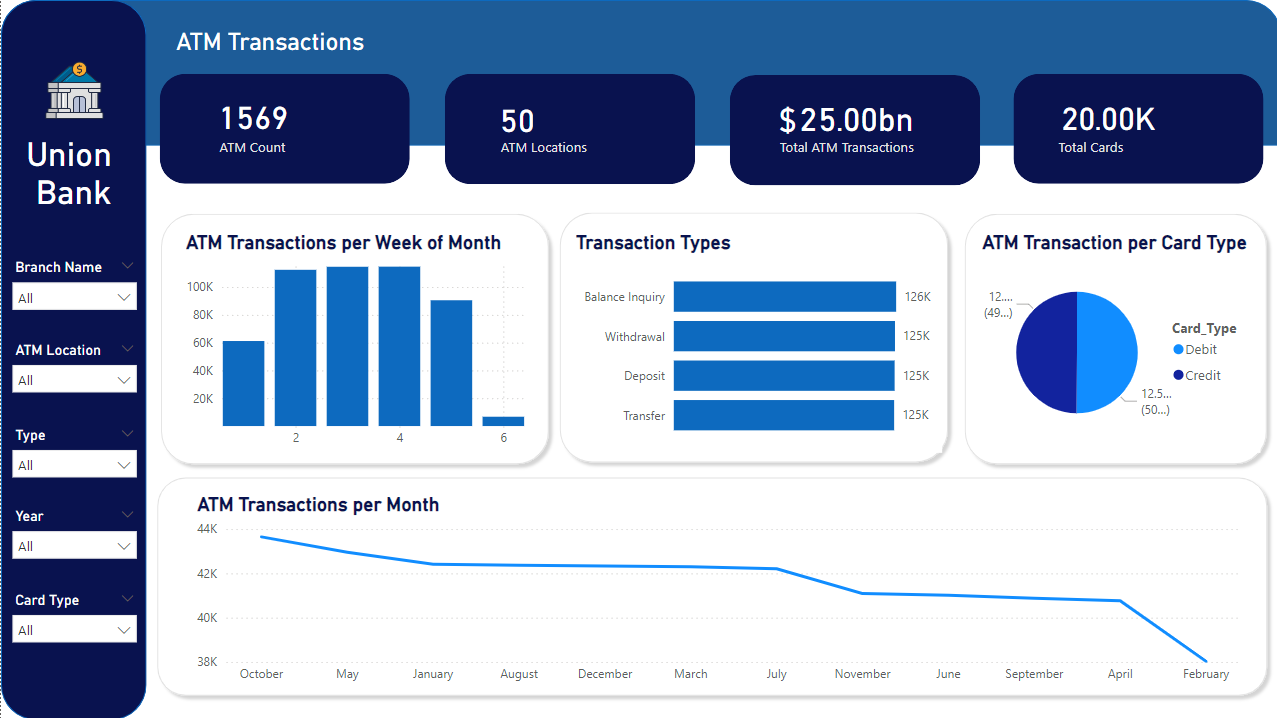

What the dashboard file says about the page in this screenshot:
{"tool":"powerbi","page":{"name":"ATM Transaction","canvas":[1280,720],"ordinal":1},"visuals":[{"type":"shape","box":[0,0,1280,145.7],"z":0},{"type":"shape","box":[1012.7,73.6,250,110],"z":1000},{"type":"shape","box":[728.4,75,250.5,110.4],"z":2000},{"type":"shape","box":[159.1,73.6,250,110],"z":3000},{"type":"shape","box":[551.7,205,403.3,265],"z":4000},{"type":"shape","box":[955.7,205.7,317.1,265.7],"z":5000},{"type":"shape","box":[0,0,145.5,720],"z":6000},{"type":"shape","box":[152.9,205.7,402.9,265.7],"z":7000},{"type":"card","title":"Total Loans","fields":{"Values":["Sum(ATM Transaction Fact.Total_Amount)"]},"box":[760,81.4,191.4,71.4],"z":8000},{"type":"textbox","box":[774,133,192,29],"z":9000},{"type":"textbox","box":[748.6,95.7,75.7,51.4],"z":10000},{"type":"shape","box":[148.3,470,1125,233.3],"z":11000},{"type":"pieChart","title":"ATM Transaction per Card Type","fields":{"Y":["Sum(ATM Transaction Fact.Total_Amount)"],"Category":["Card Dim.Card_Type"]},"box":[975.7,231.4,282.9,221.4],"z":12000},{"type":"barChart","title":"Transaction Types","fields":{"Y":["CountNonNull(ATM Transaction Fact.Total_Amount)"],"Category":["Transaction Type Dim.TransactionType"]},"box":[570,231.4,371.4,221.4],"z":13000},{"type":"card","fields":{"Values":["CountNonNull(Card Dim.CardNumber Sk)"]},"box":[1032,83,150,68],"z":14000},{"type":"textbox","box":[1053,133,129,35],"z":15000},{"type":"columnChart","title":"ATM Transactions per Week of Month","fields":{"Y":["CountNonNull(ATM Transaction Fact.PK_ATM_Transaction SK)"],"Category":["DimDate.WeekOfMonth"]},"box":[180,231.7,348.3,225],"z":16000},{"type":"lineChart","title":"ATM Transactions per Month","fields":{"Y":["CountNonNull(ATM Transaction Fact.PK_ATM_Transaction SK)"],"Category":["DimDate.MonthName"]},"box":[191.7,493.3,1053.3,198.3],"z":17000},{"type":"textbox","box":[170,22.9,300,52.9],"z":18000},{"type":"slicer","fields":{"Values":["Branch Dim.BranchName"]},"box":[1.4,253.9,144.3,84.3],"z":19000},{"type":"slicer","fields":{"Values":["Account Dim.Account Type"]},"box":[1.4,336.7,144.3,84.3],"z":20000},{"type":"slicer","fields":{"Values":["Customer Dim.State"]},"box":[1.4,421,144.3,84.3],"z":21000},{"type":"slicer","fields":{"Values":["DimDate.Year"]},"box":[1.4,502.4,144.3,84.3],"z":22000},{"type":"slicer","fields":{"Values":["Loan Fact.Intrest_Rate"]},"box":[1.4,586.7,144.3,84.3],"z":23000},{"type":"image","box":[35.7,50,74.3,80],"z":24000},{"type":"textbox","box":[12.9,130,120,101.4],"z":25000},{"type":"card","fields":{"Values":["CountNonNull(ATM Dim.ATM ID SK)"]},"box":[176.9,83.1,149.6,67.7],"z":26000},{"type":"textbox","box":[155,133,193,28],"z":27000},{"type":"shape","box":[443.6,73.7,250.5,110.4],"z":28000},{"type":"card","fields":{"Values":["Count(ATM Dim.Location)"]},"box":[441.5,84.6,149.6,67.7],"z":29000},{"type":"textbox","box":[469.7,132.6,145.7,31.4],"z":30000}]}

Visuals, with their boxes in screenshot pixels (x1, y1, x2, y2), scaled from the page's 1280x720 canvas onto the 1277x718 screenshot:
shape: [x1=0, y1=0, x2=1276, y2=145]
shape: [x1=1010, y1=73, x2=1260, y2=183]
shape: [x1=727, y1=75, x2=977, y2=185]
shape: [x1=159, y1=73, x2=408, y2=183]
shape: [x1=550, y1=204, x2=953, y2=469]
shape: [x1=953, y1=205, x2=1270, y2=470]
shape: [x1=0, y1=0, x2=145, y2=717]
shape: [x1=153, y1=205, x2=554, y2=470]
"Total Loans" card: [x1=758, y1=81, x2=949, y2=152]
textbox: [x1=772, y1=133, x2=964, y2=162]
textbox: [x1=747, y1=95, x2=822, y2=147]
shape: [x1=148, y1=469, x2=1270, y2=701]
"ATM Transaction per Card Type" pieChart: [x1=973, y1=231, x2=1256, y2=452]
"Transaction Types" barChart: [x1=569, y1=231, x2=939, y2=452]
card - CountNonNull(Card Dim.CardNumber Sk): [x1=1030, y1=83, x2=1179, y2=151]
textbox: [x1=1051, y1=133, x2=1179, y2=168]
"ATM Transactions per Week of Month" columnChart: [x1=180, y1=231, x2=527, y2=455]
"ATM Transactions per Month" lineChart: [x1=191, y1=492, x2=1242, y2=690]
textbox: [x1=170, y1=23, x2=469, y2=76]
slicer - Branch Dim.BranchName: [x1=1, y1=253, x2=145, y2=337]
slicer - Account Dim.Account Type: [x1=1, y1=336, x2=145, y2=420]
slicer - Customer Dim.State: [x1=1, y1=420, x2=145, y2=504]
slicer - DimDate.Year: [x1=1, y1=501, x2=145, y2=585]
slicer - Loan Fact.Intrest_Rate: [x1=1, y1=585, x2=145, y2=669]
image: [x1=36, y1=50, x2=110, y2=130]
textbox: [x1=13, y1=130, x2=133, y2=231]
card - CountNonNull(ATM Dim.ATM ID SK): [x1=176, y1=83, x2=326, y2=150]
textbox: [x1=155, y1=133, x2=347, y2=161]
shape: [x1=443, y1=73, x2=692, y2=184]
card - Count(ATM Dim.Location): [x1=440, y1=84, x2=590, y2=152]
textbox: [x1=469, y1=132, x2=614, y2=164]
